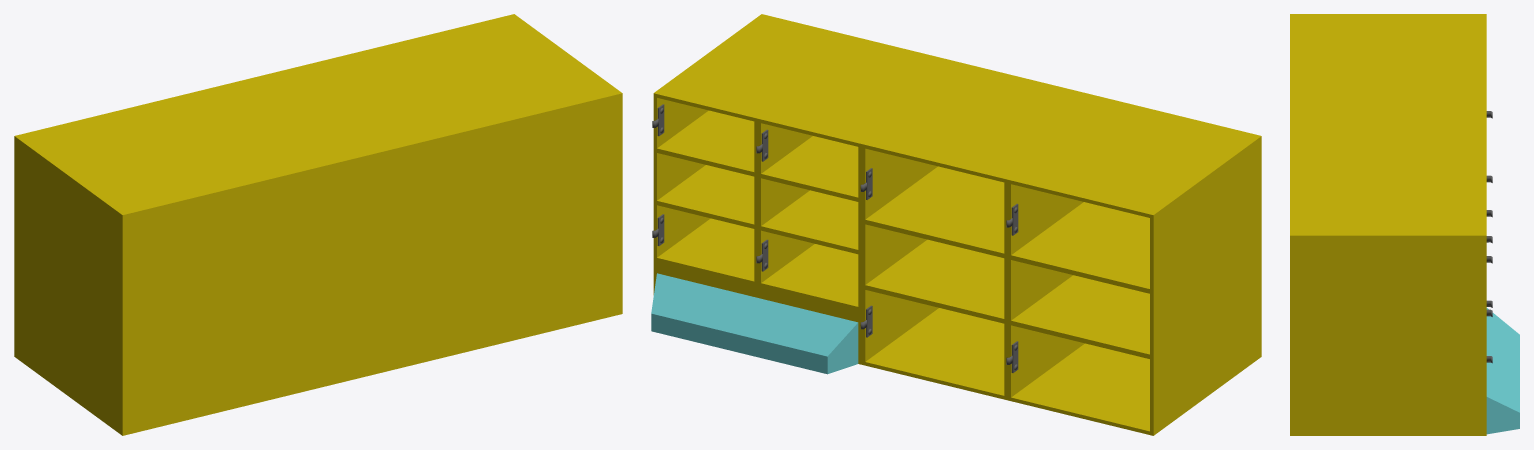
File: SNWP_MOD_BUN_Kitchen_cabinet.fbx
The picture shows the model from 3 angles, left to right: view 1: azimuth 30°, elevation 25°; view 2: azimuth 150°, elevation 25°; view 3: azimuth 270°, elevation 25°; orthographic projection. The views are drawn at different scales.
Visible parts, largest first — view 1: SNWP_MOD_Bunker_kitchen_cabinet; view 2: SNWP_MOD_Bunker_kitchen_cabinet; view 3: SNWP_MOD_Bunker_kitchen_cabinet.
Boxes of the visible parts, x1,y1,x2,y2 form: SNWP_MOD_Bunker_kitchen_cabinet: [14, 14, 622, 435]; SNWP_MOD_Bunker_kitchen_cabinet: [651, 14, 1261, 435]; SNWP_MOD_Bunker_kitchen_cabinet: [1290, 14, 1519, 435].
Size of the model in its own units: 1.6 by 0.6785 by 0.7014.
